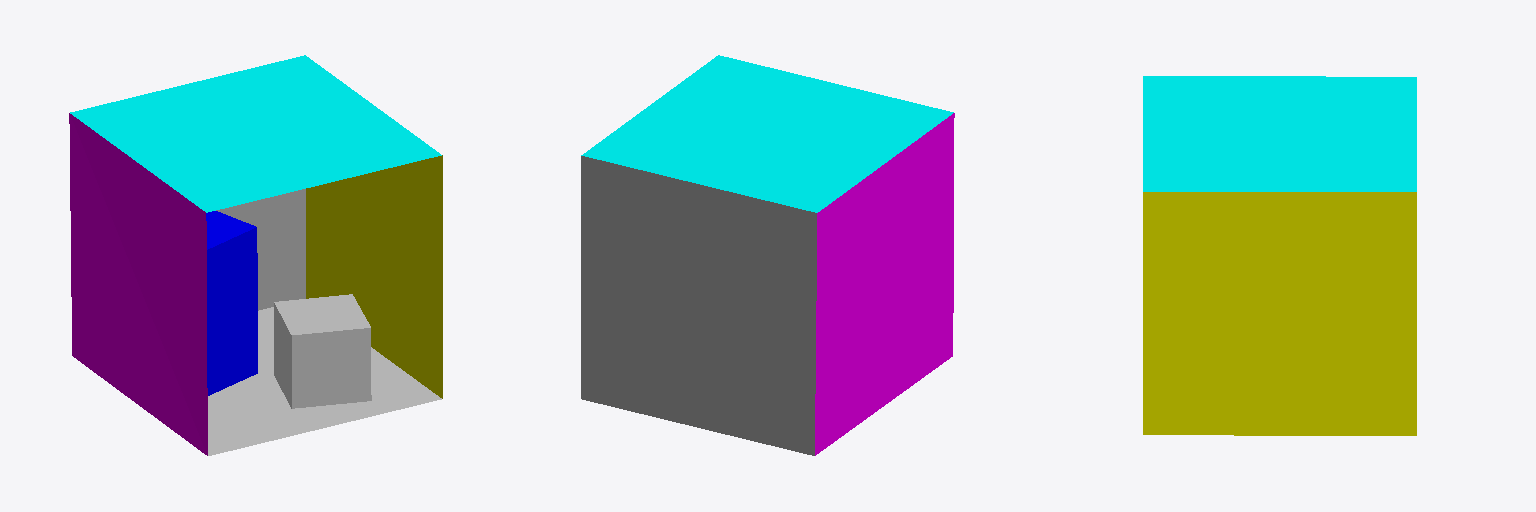
Rendered from textured-cornell-box.obj.
3 renders of one model, left to right at view 1: azimuth 30°, elevation 25°; view 2: azimuth 150°, elevation 25°; view 3: azimuth 270°, elevation 25°, orthographic.
Parts seen in each view (by area): view 1: left_wall, ceiling, right_wall, floor, short_box, tall_box, back_wall; view 2: back_wall, left_wall, ceiling; view 3: right_wall, ceiling.
Part boxes in pixels (x1,y1,x2,y2): left_wall: (69, 113, 207, 455); ceiling: (70, 55, 441, 212); right_wall: (306, 155, 442, 398); floor: (208, 307, 441, 455); short_box: (274, 294, 371, 408); tall_box: (206, 211, 257, 395); back_wall: (216, 189, 305, 310); back_wall: (581, 156, 816, 455); left_wall: (815, 113, 954, 455); ceiling: (581, 55, 953, 212); right_wall: (1143, 192, 1416, 435); ceiling: (1143, 76, 1416, 191).
Size of the model in its own units: 5.56 by 5.49 by 5.6.